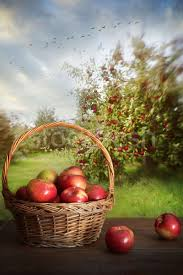apple: (102, 225, 138, 249), (30, 177, 59, 205), (150, 214, 183, 238), (60, 186, 91, 206), (84, 183, 105, 201), (61, 168, 86, 182), (38, 170, 58, 187), (66, 176, 86, 191)
